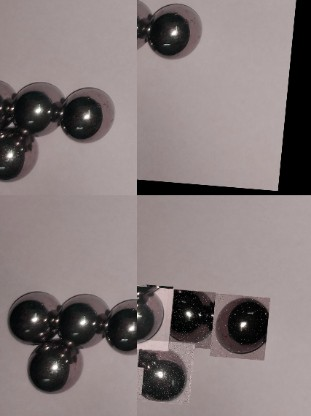ironball: (137, 336, 200, 400), (214, 290, 274, 356), (59, 86, 122, 142), (9, 78, 67, 135), (58, 288, 113, 348), (167, 285, 219, 345), (6, 286, 58, 343), (25, 342, 82, 394), (150, 2, 199, 61), (137, 280, 177, 348), (106, 294, 140, 356), (0, 128, 41, 179)
